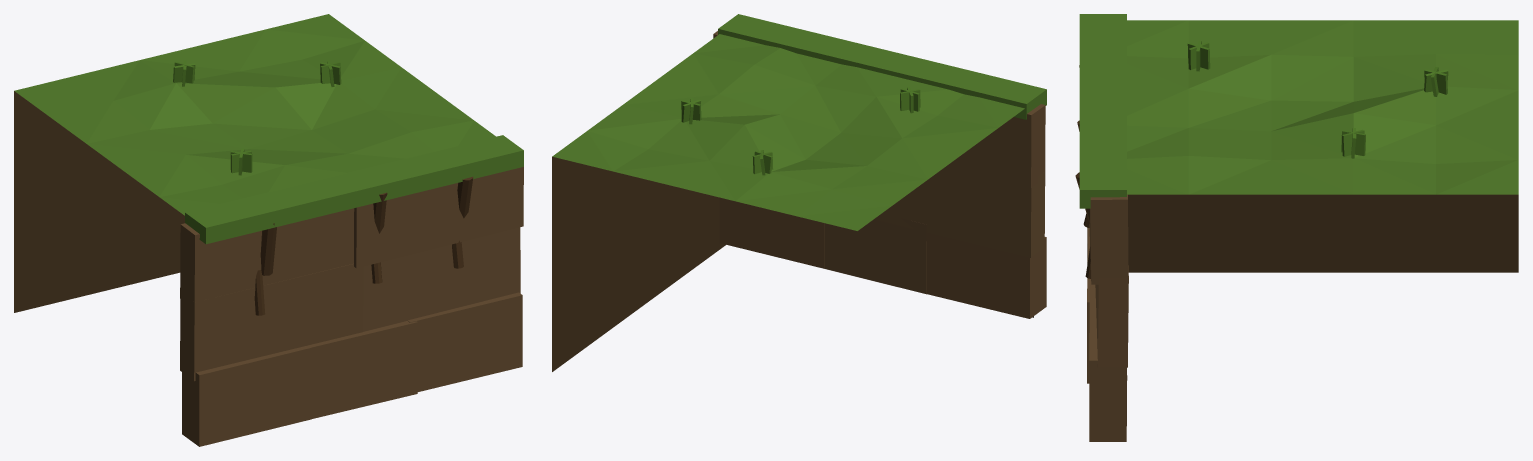
File: SM_Terrain_Rustic_01_Cliff.glb
The picture shows the model from 3 angles, left to right: view 1: azimuth 30°, elevation 25°; view 2: azimuth 150°, elevation 25°; view 3: azimuth 270°, elevation 25°; orthographic projection. The views are drawn at different scales.
Visible parts, largest first — view 1: SM_Terrain_Rustic_01_Cliff_Bank, SM_Terrain_Rustic_01_Cliff_Strata10, SM_Terrain_Rustic_01_Cliff_Lip, SM_Terrain_Rustic_01_Cliff_Strata11, SM_Terrain_Rustic_01_Cliff_Strata21, SM_Terrain_Rustic_01_Cliff_Strata00, SM_Terrain_Rustic_01_Cliff_Strata20, SM_Terrain_Rustic_01_Cliff_Strata01, SM_Terrain_Rustic_01_Cliff_Strata02, SM_Terrain_Rustic_01_Cliff_RootA0; view 2: SM_Terrain_Rustic_01_Cliff_Bank, SM_Terrain_Rustic_01_Cliff_Strata10, SM_Terrain_Rustic_01_Cliff_Lip, SM_Terrain_Rustic_01_Cliff_Strata00, SM_Terrain_Rustic_01_Cliff_Strata01, SM_Terrain_Rustic_01_Cliff_Strata02, SM_Terrain_Rustic_01_Cliff_Strata20; view 3: SM_Terrain_Rustic_01_Cliff_Bank, SM_Terrain_Rustic_01_Cliff_Lip, SM_Terrain_Rustic_01_Cliff_Strata02, SM_Terrain_Rustic_01_Cliff_Strata21, SM_Terrain_Rustic_01_Cliff_Strata11, SM_Terrain_Rustic_01_Cliff_Strata01.
Boxes of the visible parts, x1,y1,x2,y2 form: SM_Terrain_Rustic_01_Cliff_Bank: (14, 14, 495, 312); SM_Terrain_Rustic_01_Cliff_Strata10: (180, 263, 363, 381); SM_Terrain_Rustic_01_Cliff_Lip: (185, 135, 523, 244); SM_Terrain_Rustic_01_Cliff_Strata11: (363, 227, 520, 331); SM_Terrain_Rustic_01_Cliff_Strata21: (354, 167, 523, 268); SM_Terrain_Rustic_01_Cliff_Strata00: (182, 345, 311, 446); SM_Terrain_Rustic_01_Cliff_Strata20: (180, 208, 354, 303); SM_Terrain_Rustic_01_Cliff_Strata01: (309, 321, 417, 418); SM_Terrain_Rustic_01_Cliff_Strata02: (407, 292, 522, 391); SM_Terrain_Rustic_01_Cliff_RootA0: (260, 223, 276, 275); SM_Terrain_Rustic_01_Cliff_Bank: (552, 34, 1033, 371); SM_Terrain_Rustic_01_Cliff_Strata10: (874, 167, 1045, 257); SM_Terrain_Rustic_01_Cliff_Lip: (718, 14, 1046, 119); SM_Terrain_Rustic_01_Cliff_Strata00: (926, 232, 1046, 318); SM_Terrain_Rustic_01_Cliff_Strata01: (824, 218, 926, 294); SM_Terrain_Rustic_01_Cliff_Strata02: (719, 197, 824, 268); SM_Terrain_Rustic_01_Cliff_Strata20: (946, 104, 1045, 187); SM_Terrain_Rustic_01_Cliff_Bank: (1127, 20, 1518, 272); SM_Terrain_Rustic_01_Cliff_Lip: (1079, 14, 1126, 208); SM_Terrain_Rustic_01_Cliff_Strata02: (1089, 298, 1127, 441); SM_Terrain_Rustic_01_Cliff_Strata21: (1089, 194, 1128, 284); SM_Terrain_Rustic_01_Cliff_Strata11: (1095, 265, 1128, 367); SM_Terrain_Rustic_01_Cliff_Strata01: (1087, 243, 1095, 383).
Size of the model in its own units: 2.08 by 1.47 by 2.15.
